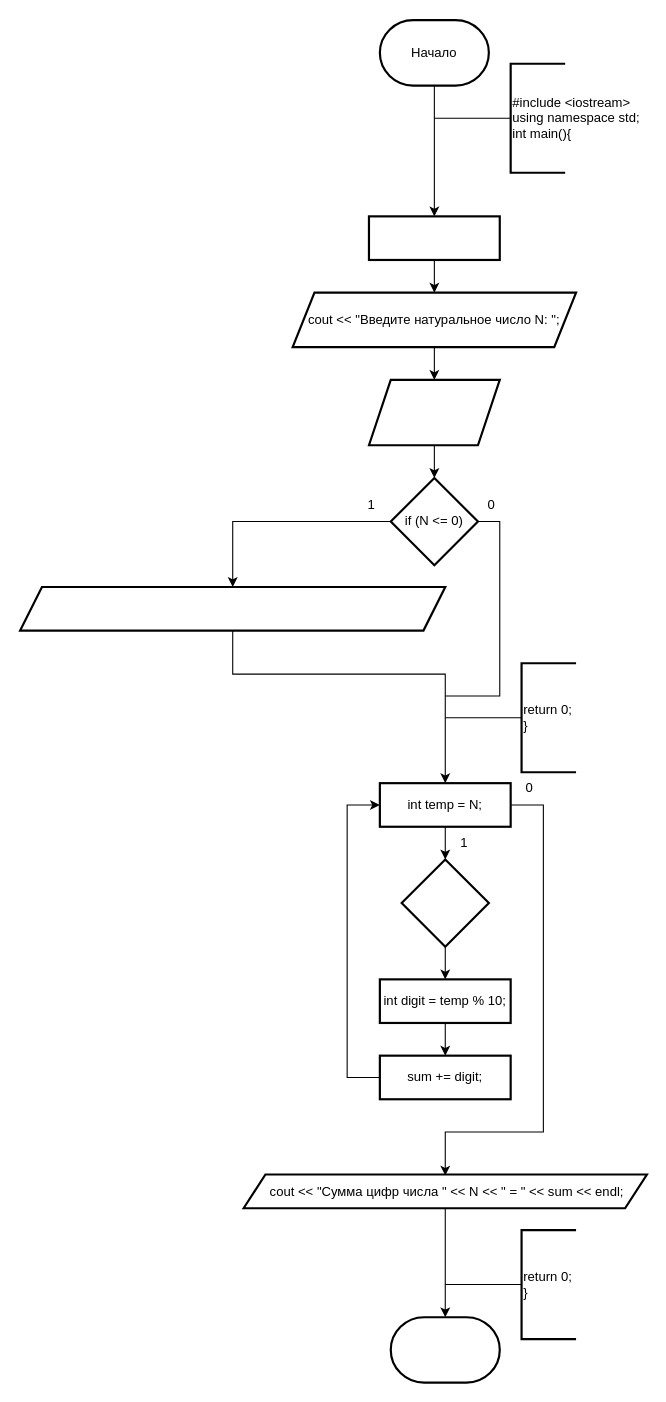
This 666x1402 diagram has some shape labels left out. Here are the shapes that lost their labels. From the top down, the centre of each, then its label:
the point at 433,238: int N, sum = 0;
the point at 433,412: cin >> N;
the point at 232,608: cout << "Число должно быть натуральным (больше 0)!" << endl;
the point at 444,902: temp > 0
the point at 444,1349: Конец
